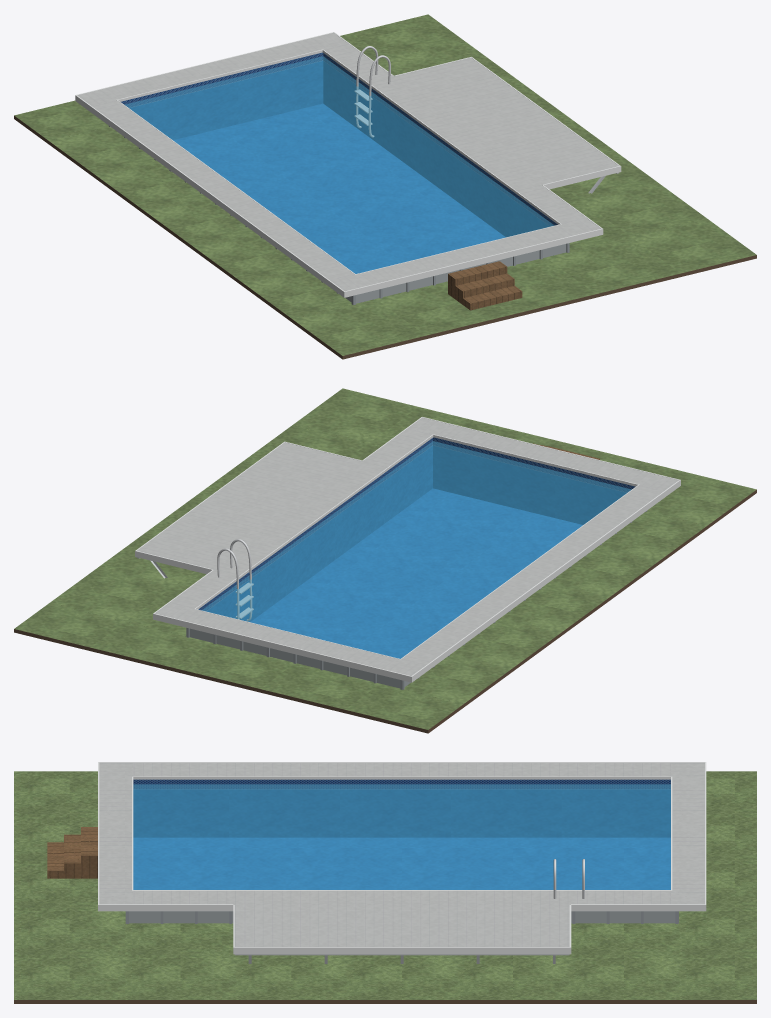
File: kayak-pool-16x32-gray-t-rec-nofence.3937f54c8c.glb
3 views of the same model, one above another, from view 1: azimuth 30°, elevation 25°; view 2: azimuth 150°, elevation 25°; view 3: azimuth 270°, elevation 25° (orthographic). The views are drawn at different scales.
Parts seen in each view (by area): view 1: ground, water, deck, liner_floor, liner_wall, fascia, soil, steps, wall, steel; view 2: ground, water, deck, liner_floor, liner_wall, fascia, soil, wall, steel; view 3: ground, water, deck, liner_wall, liner_floor, fascia, soil, wall, steps, stud.
Boxes of the visible parts, x1,y1,x2,y2 form: ground: [14, 14, 756, 355]; water: [125, 56, 553, 273]; deck: [77, 33, 618, 291]; liner_floor: [173, 104, 505, 273]; liner_wall: [121, 52, 557, 237]; fascia: [75, 32, 621, 297]; soil: [14, 115, 756, 359]; steps: [448, 261, 522, 310]; wall: [345, 244, 566, 303]; steel: [354, 46, 390, 137]; ground: [14, 388, 756, 729]; water: [202, 441, 631, 658]; deck: [137, 417, 678, 675]; liner_floor: [251, 488, 582, 658]; liner_wall: [198, 437, 635, 621]; fascia: [135, 417, 680, 682]; soil: [14, 489, 756, 733]; wall: [189, 628, 410, 688]; steel: [217, 539, 253, 621]; ground: [14, 771, 756, 999]; water: [133, 784, 670, 889]; deck: [99, 763, 704, 946]; liner_wall: [133, 779, 670, 837]; liner_floor: [133, 837, 670, 889]; fascia: [98, 762, 706, 954]; soil: [14, 1000, 756, 1003]; wall: [129, 911, 675, 923]; steps: [47, 827, 97, 878]; stud: [234, 954, 569, 963].
Size of the model in its own units: 9.75 by 1.9 by 13.4.
12 materials, 5 textured.
